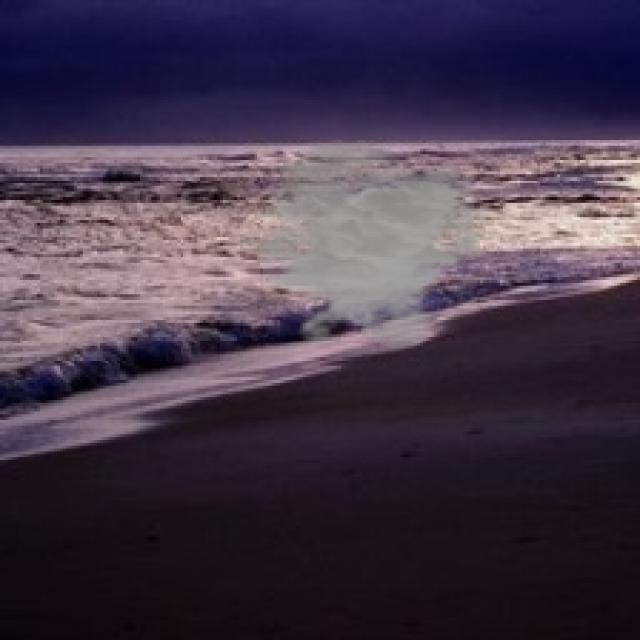Smoke: (228, 137, 498, 352)
